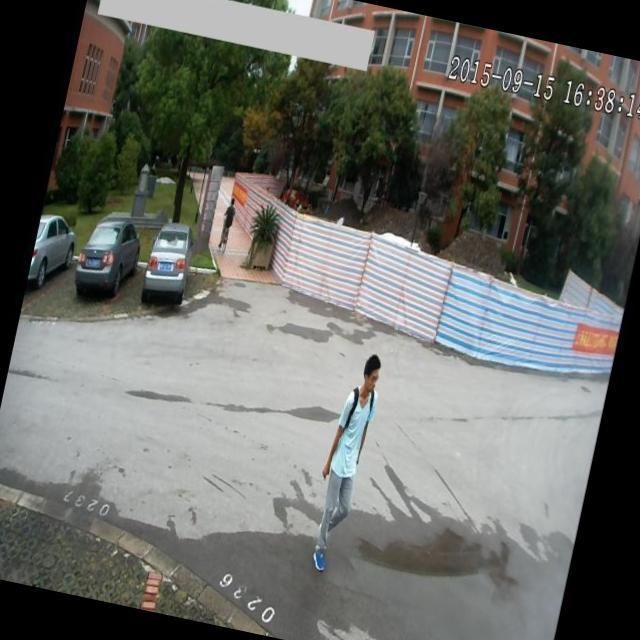person: (302, 345, 388, 574), (215, 192, 238, 249)
